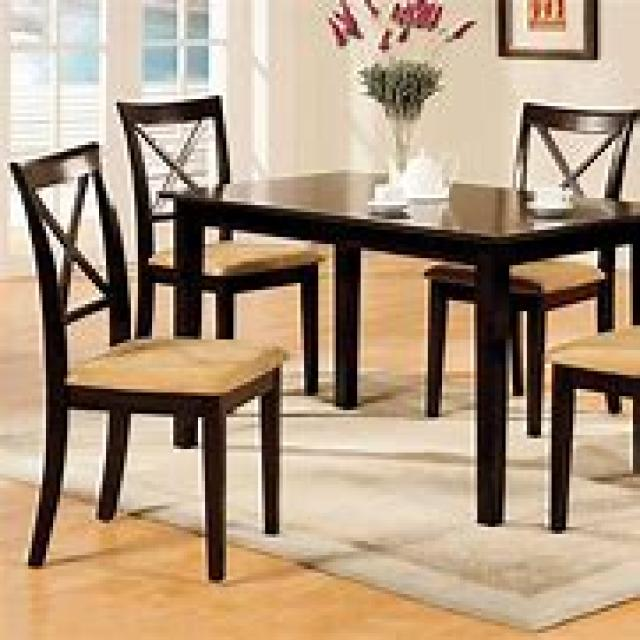chair: (7, 138, 283, 580), (113, 92, 325, 442), (421, 99, 636, 435)
table: (156, 166, 636, 524)
